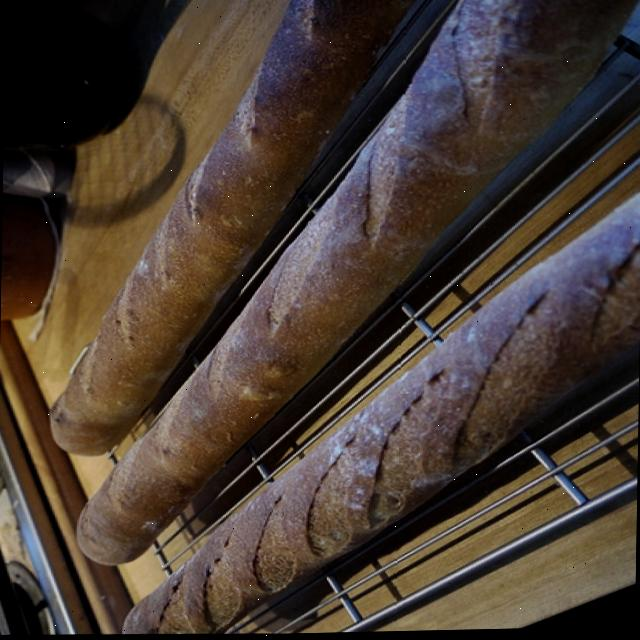面包点心: (8, 0, 640, 640)
